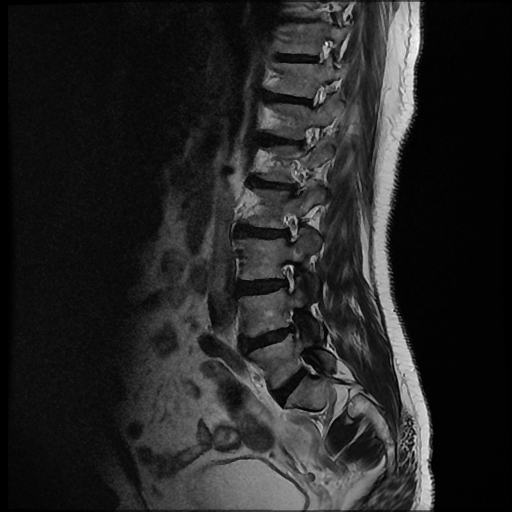RFS0: (271, 205, 307, 248), (271, 253, 305, 298)
